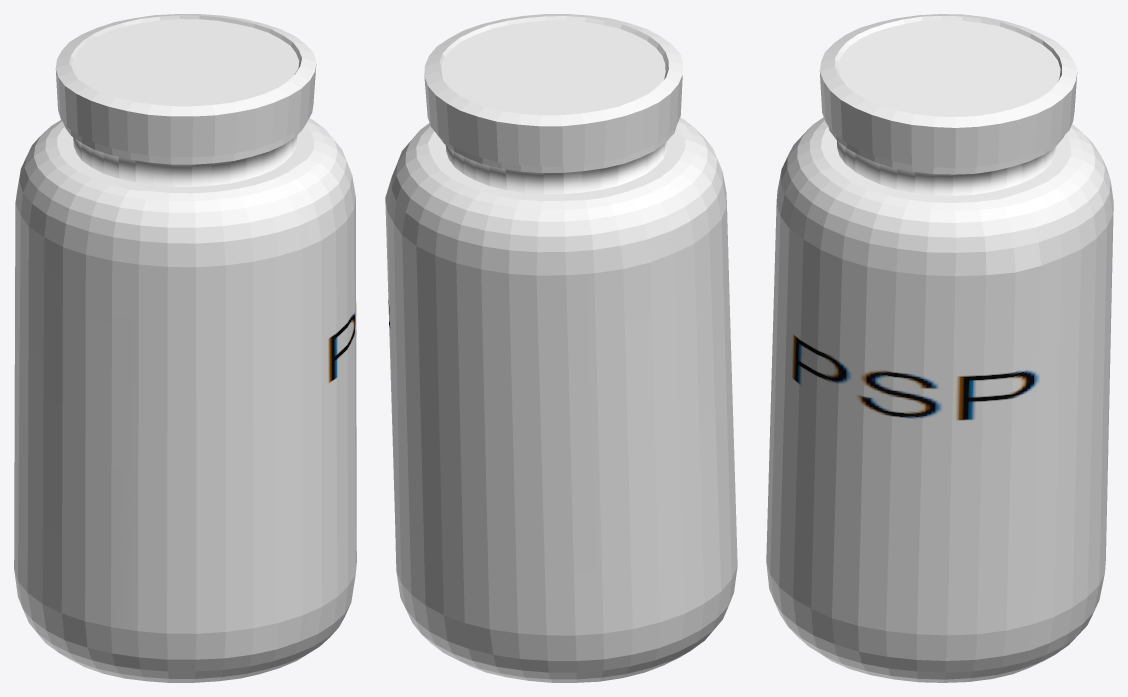
Rendered from 雲芝糖肽精華 (PSP).glb.
3 views of the same model, side by side, from view 1: azimuth 30°, elevation 25°; view 2: azimuth 150°, elevation 25°; view 3: azimuth 270°, elevation 25° (orthographic).
Parts seen in each view (by area): view 1: part_00000001; view 2: part_00000001; view 3: part_00000001.
Boxes of the visible parts, x1,y1,x2,y2 form: part_00000001: (14,14,356,682); part_00000001: (385,14,737,682); part_00000001: (766,14,1113,682).
Size of the model in its own units: 2.67 by 4.83 by 2.68.
Materials: 1 (1 with a texture image).
